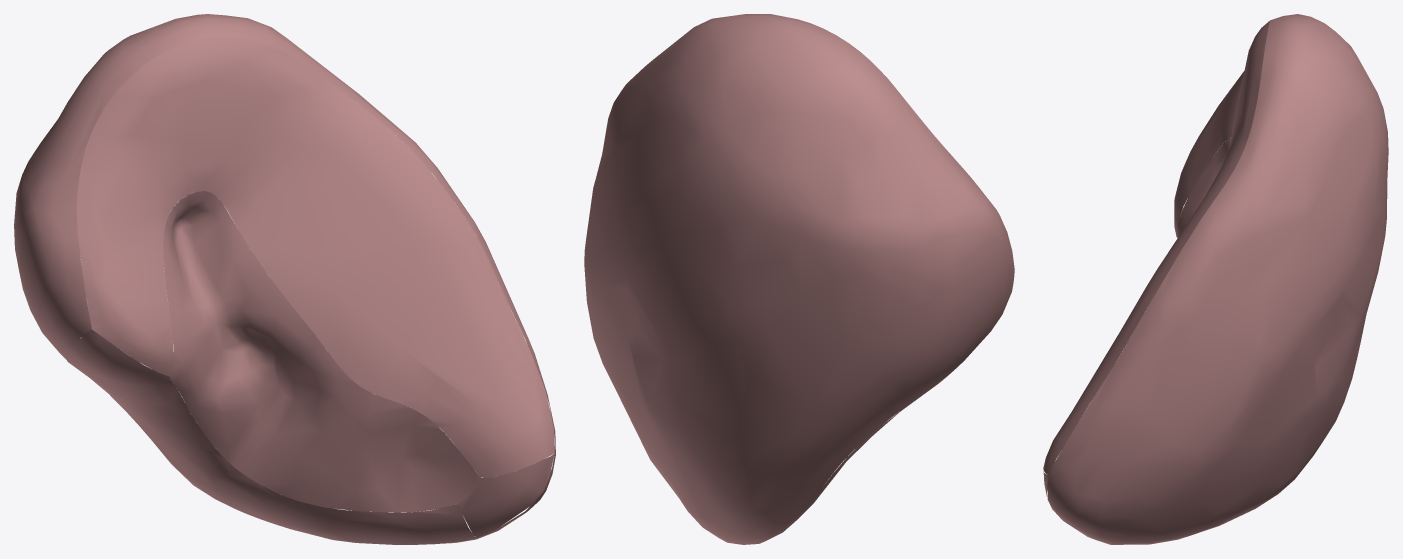
File: vh_f_spleen.glb
3 views of the same model, side by side, from view 1: azimuth 30°, elevation 25°; view 2: azimuth 150°, elevation 25°; view 3: azimuth 270°, elevation 25° (orthographic). The views are drawn at different scales.
Parts seen in each view (by area): view 1: VH_F_gastric_surface_of_spleen, VH_F_hilum_of_spleen, VH_F_diaphragmatic_surface_of_spleen, VH_F_renal_surface_of_spleen, VH_F_colic_surface_of_spleen; view 2: VH_F_diaphragmatic_surface_of_spleen; view 3: VH_F_diaphragmatic_surface_of_spleen, VH_F_gastric_surface_of_spleen, VH_F_hilum_of_spleen.
Part boxes in pixels (box(x1,y1,x2,y2)): VH_F_gastric_surface_of_spleen: box(77, 37, 554, 477); VH_F_hilum_of_spleen: box(163, 191, 479, 512); VH_F_diaphragmatic_surface_of_spleen: box(14, 14, 555, 543); VH_F_renal_surface_of_spleen: box(66, 329, 477, 544); VH_F_colic_surface_of_spleen: box(458, 454, 554, 537); VH_F_diaphragmatic_surface_of_spleen: box(584, 14, 1014, 544); VH_F_diaphragmatic_surface_of_spleen: box(1047, 14, 1388, 544); VH_F_gastric_surface_of_spleen: box(1043, 21, 1269, 475); VH_F_hilum_of_spleen: box(1177, 137, 1231, 237).
Bounding box in the file's own units: 0.0897 × 0.1023 × 0.0709.
